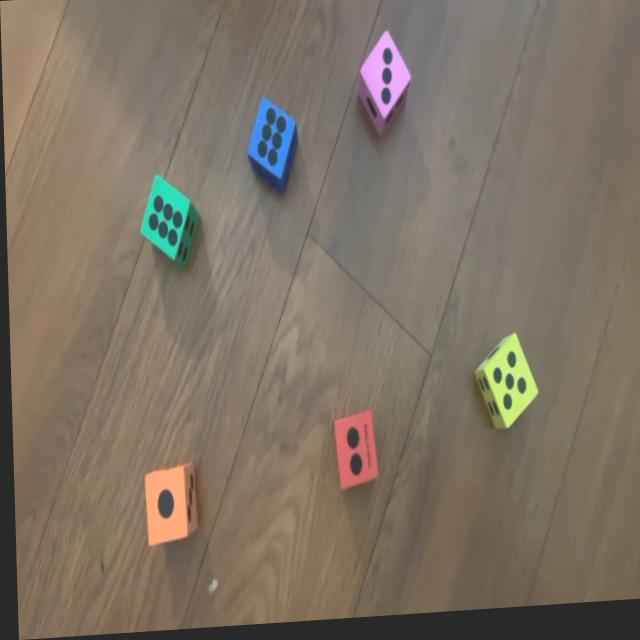blue_block: (246, 101, 298, 197)
red_block: (329, 413, 375, 494)
